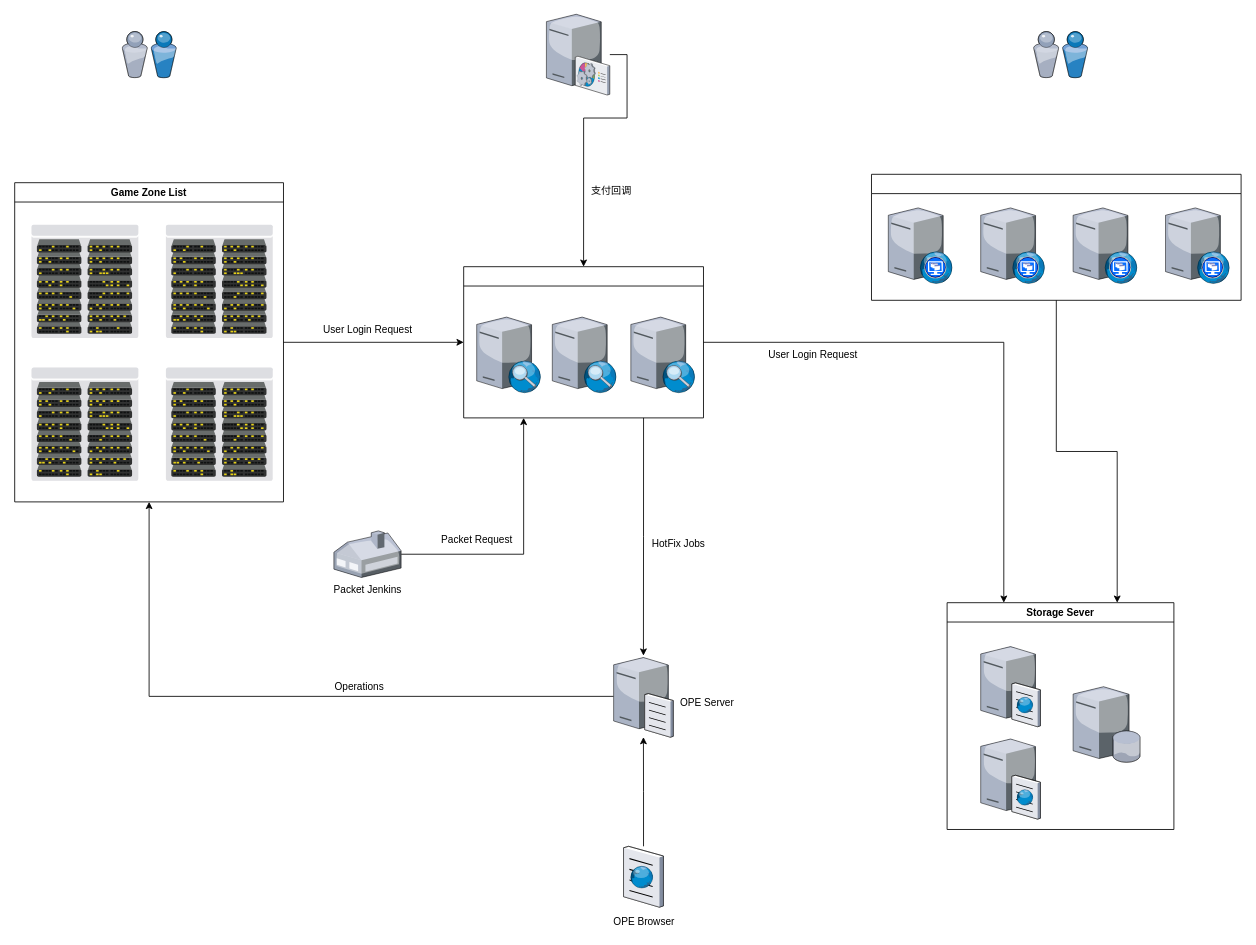
Image size: 1256x945. Some labels were removed from this diagram. The shapes that lost their labels are listed below. From the top down, each one's centre as x and y in pixels, then its label:
At [1056,236]: "Login Server Cluster".
At [583,342]: "Service Cluster".
